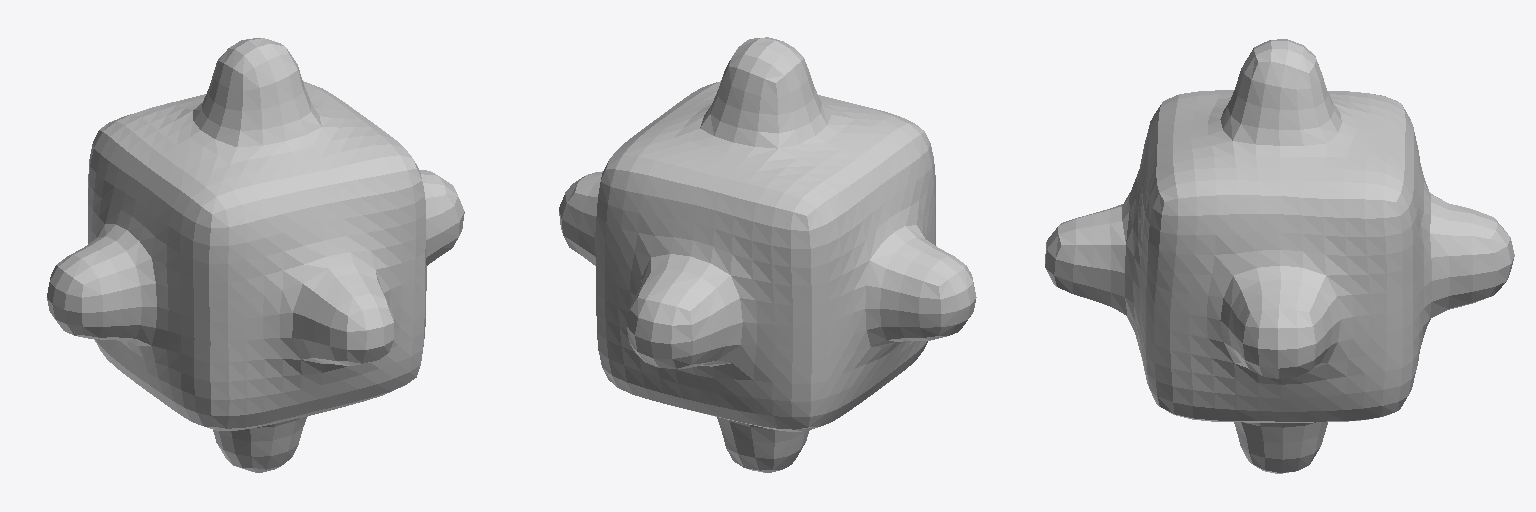
The model's file is cubespikes.obj.
3 renders of one model, left to right at view 1: azimuth 30°, elevation 25°; view 2: azimuth 150°, elevation 25°; view 3: azimuth 270°, elevation 25°, orthographic.
Size of the model in its own units: 24.01 by 24.07 by 24.04.